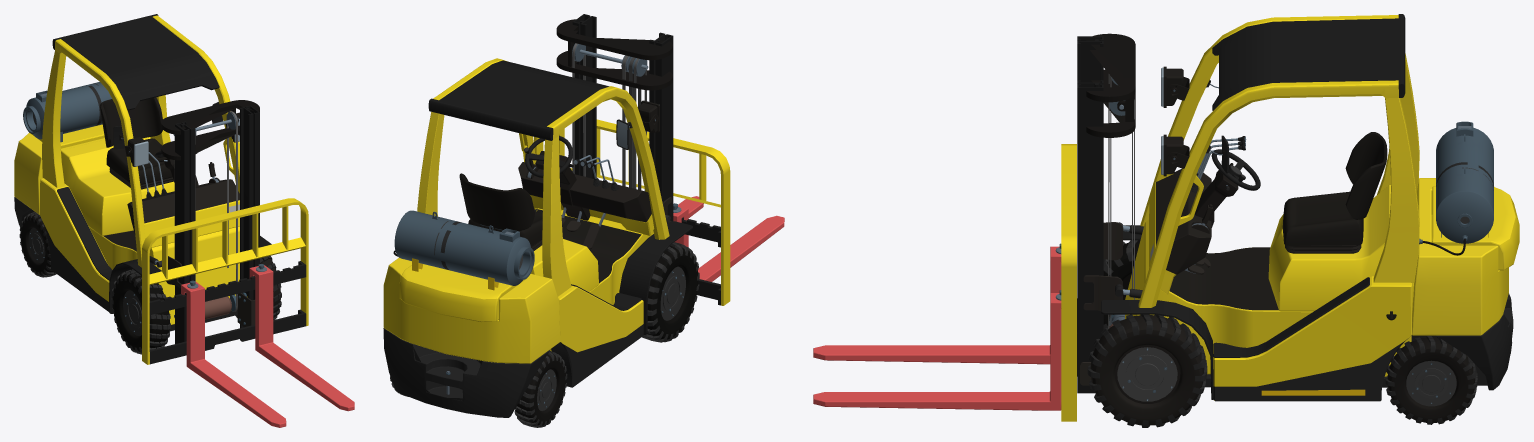
Rendered from forklift.glb.
3 renders of one model, left to right at view 1: azimuth 30°, elevation 25°; view 2: azimuth 150°, elevation 25°; view 3: azimuth 270°, elevation 25°, orthographic. The views are drawn at different scales.
Parts seen in each view (by area): view 1: SM_Ind_Forklift_Detailed_Detailed, SM_Ind_Forklift_Prong_Sup_Detailed, SM_Ind_Forklift_Angler_Detailed, SM_Ind_Forklift_Prong_L_Detailed, SM_Ind_Forklift_Prong_R_Detailed, SM_Ind_Forklift_FrontWheel_L_Detailed, SM_Ind_Forklift_RearWheel_L_Detailed, SM_Ind_Forklift_Light_L_Detailed, SM_Ind_Forklift_FrontWheel_R_Detailed; view 2: SM_Ind_Forklift_Detailed_Detailed, SM_Ind_Forklift_Angler_Detailed, SM_Ind_Forklift_Prong_Sup_Detailed, SM_Ind_Forklift_FrontWheel_L_Detailed, SM_Ind_Forklift_RearWheel_L_Detailed, SM_Ind_Forklift_Prong_L_Detailed, SM_Ind_Forklift_Light_L_Detailed; view 3: SM_Ind_Forklift_Detailed_Detailed, SM_Ind_Forklift_Angler_Detailed, SM_Ind_Forklift_FrontWheel_R_Detailed, SM_Ind_Forklift_RearWheel_R_Detailed, SM_Ind_Forklift_Prong_R_Detailed, SM_Ind_Forklift_Prong_L_Detailed, SM_Ind_Forklift_Prong_Sup_Detailed, SM_Ind_Forklift_FrontWheel_L_Detailed.
Part boxes in pixels (x1,y1,x2,y2): SM_Ind_Forklift_Detailed_Detailed: (14, 14, 271, 331); SM_Ind_Forklift_Prong_Sup_Detailed: (142, 198, 308, 364); SM_Ind_Forklift_Angler_Detailed: (161, 100, 259, 343); SM_Ind_Forklift_Prong_L_Detailed: (181, 280, 286, 427); SM_Ind_Forklift_Prong_R_Detailed: (249, 264, 354, 411); SM_Ind_Forklift_FrontWheel_L_Detailed: (111, 269, 170, 354); SM_Ind_Forklift_RearWheel_L_Detailed: (19, 212, 56, 277); SM_Ind_Forklift_Light_L_Detailed: (128, 137, 148, 166); SM_Ind_Forklift_FrontWheel_R_Detailed: (235, 256, 281, 319); SM_Ind_Forklift_Detailed_Detailed: (383, 58, 692, 417); SM_Ind_Forklift_Angler_Detailed: (556, 14, 673, 221); SM_Ind_Forklift_Prong_Sup_Detailed: (534, 119, 730, 305); SM_Ind_Forklift_FrontWheel_L_Detailed: (642, 242, 699, 342); SM_Ind_Forklift_RearWheel_L_Detailed: (514, 351, 567, 427); SM_Ind_Forklift_Prong_L_Detailed: (673, 203, 784, 281); SM_Ind_Forklift_Light_L_Detailed: (637, 100, 659, 132); SM_Ind_Forklift_Detailed_Detailed: (1080, 14, 1519, 401); SM_Ind_Forklift_Angler_Detailed: (1077, 33, 1135, 393); SM_Ind_Forklift_FrontWheel_R_Detailed: (1087, 314, 1207, 427); SM_Ind_Forklift_RearWheel_R_Detailed: (1385, 335, 1477, 424); SM_Ind_Forklift_Prong_R_Detailed: (813, 290, 1061, 410); SM_Ind_Forklift_Prong_L_Detailed: (813, 243, 1061, 364); SM_Ind_Forklift_Prong_Sup_Detailed: (1061, 144, 1077, 421); SM_Ind_Forklift_FrontWheel_L_Detailed: (1103, 240, 1140, 329).
Size of the model in its own units: 2.01 by 2.89 by 5.48.
1 material, 1 textured.
